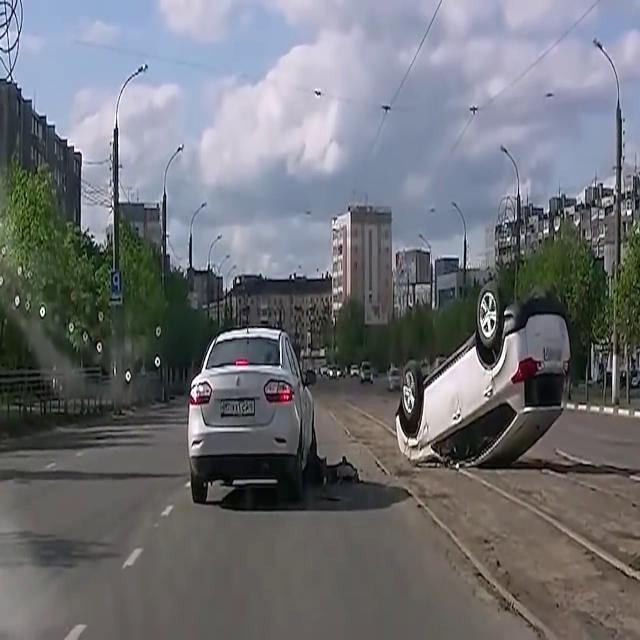accident: (395, 279, 573, 466)
non-accident: (321, 366, 345, 379)
